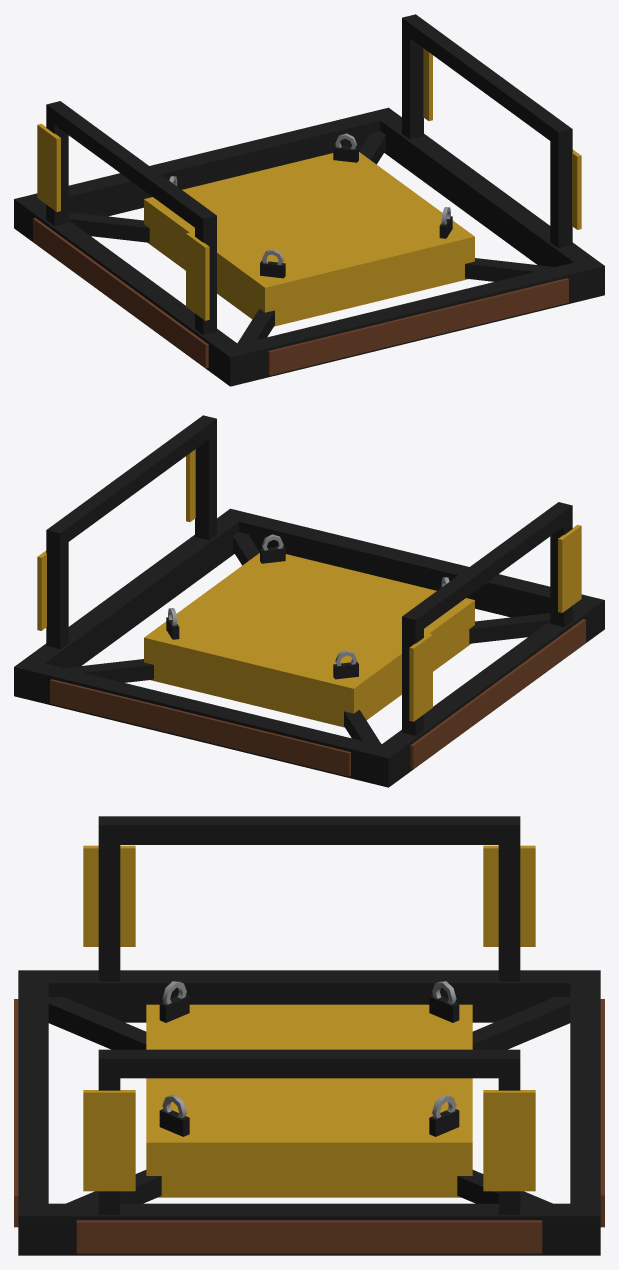
3 views of the same model, one above another, from view 1: azimuth 30°, elevation 25°; view 2: azimuth 150°, elevation 25°; view 3: azimuth 270°, elevation 25° (orthographic). The views are drawn at different scales.
Visible parts, largest first — view 1: dr5_base; view 2: dr5_base; view 3: dr5_base.
Part boxes in pixels (bbox=[...]): dr5_base: bbox=[14, 14, 604, 386]; dr5_base: bbox=[14, 415, 604, 787]; dr5_base: bbox=[14, 816, 604, 1255].
Size of the model in its own units: 2.72 by 0.991 by 2.72.
